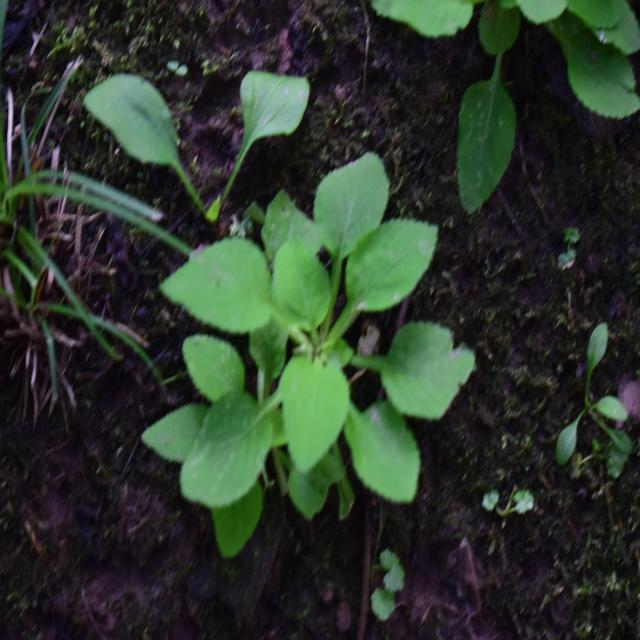Viola: (156, 176, 474, 537)
